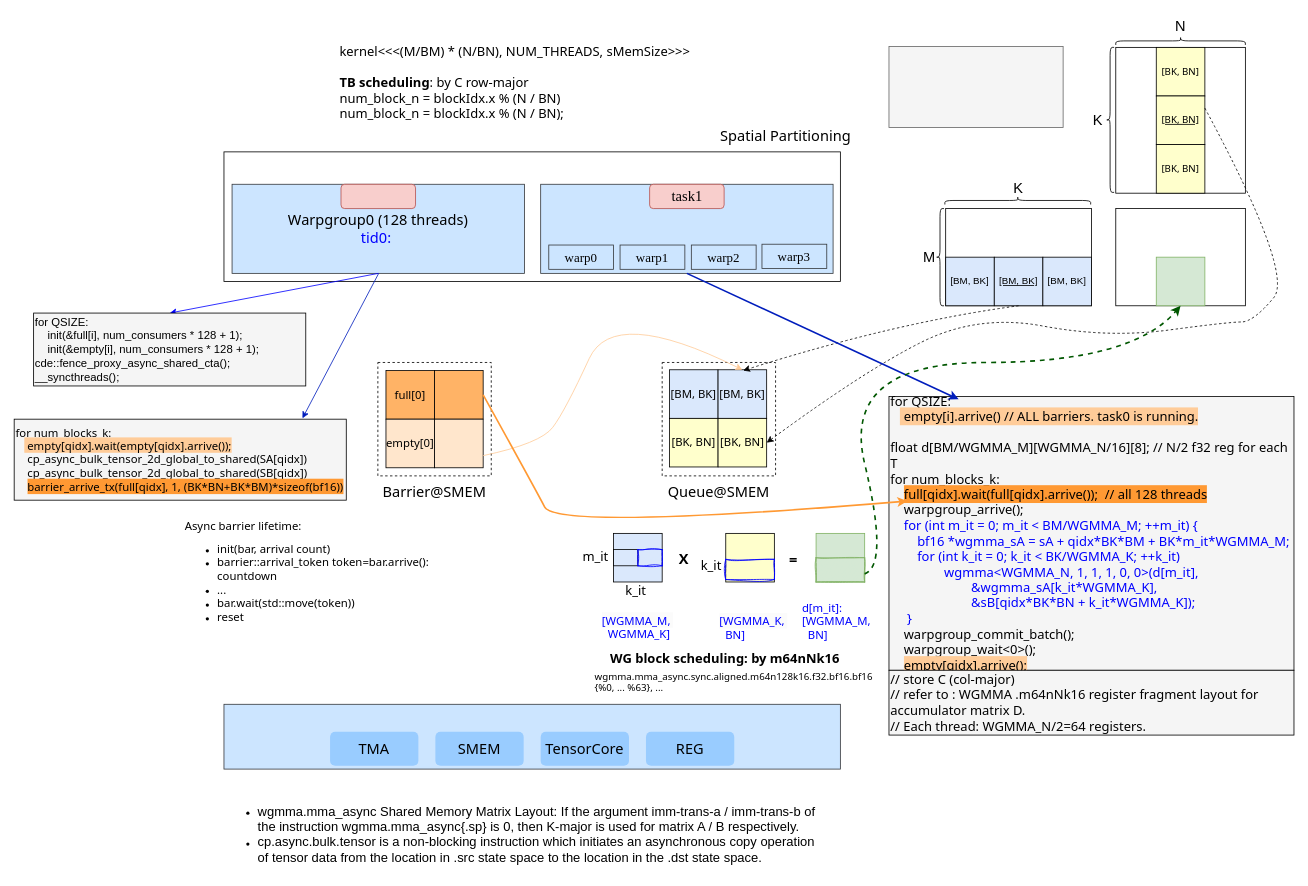
The diagram is 1308 pixels wide and 886 high, and some of its shapes have lost their labels. The shapes that lost their labels are listed below. From the top down, each one's box as (x1, y1, x2, y2) in pixels, then its label:
(888, 46, 1063, 128): tensorMap
(340, 183, 416, 209): task0
(223, 151, 840, 281): Thread Block(CTA)
(540, 183, 833, 273): Warpgroup1 (128 threads) all:
(1155, 256, 1205, 306): [BM, BN]
(434, 370, 483, 419): full[1]
(434, 418, 483, 468): empty[1]
(223, 703, 840, 769): SM
